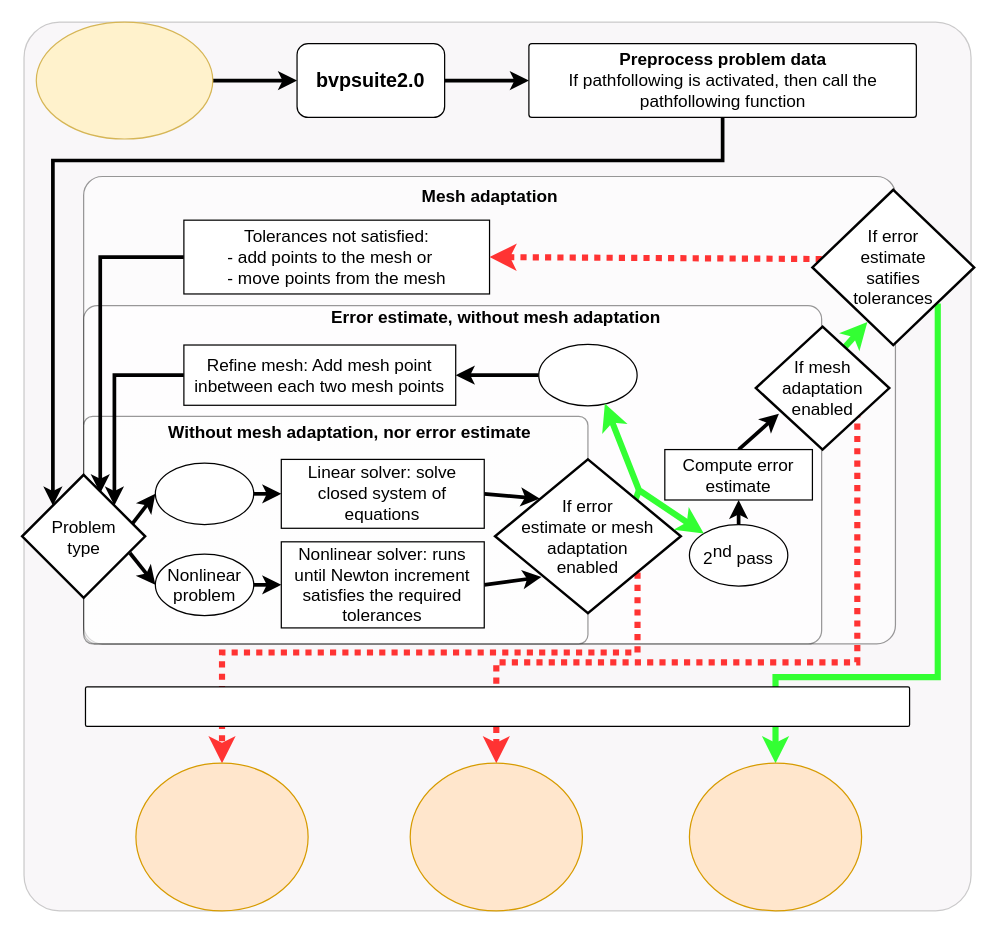
Image size: 996x932. Some labels were removed from this diagram. The box of each missing label's shape, as (x1, y1, x2, y2) in pixels:
1 st pass: (538, 343, 637, 406)
Input: - Problem definition - Solver settings: (35, 21, 213, 139)
Linear problem: (154, 462, 254, 525)
Output: - approximate solution: (135, 762, 308, 911)
Output: - approximate solution and error estimate: (409, 762, 582, 911)
Output: - approximate solution satisfying the tolerances and error estimate: (688, 762, 862, 911)
Postprocess data: (84, 686, 910, 726)
